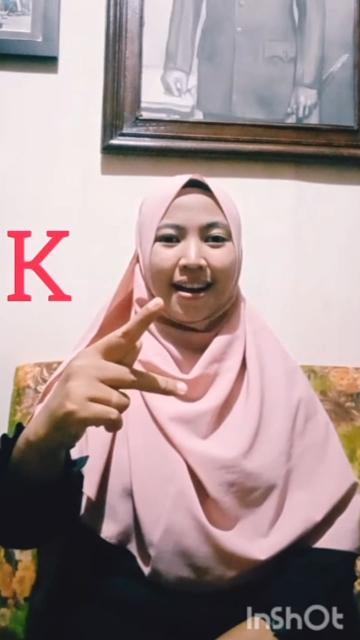K: (55, 298, 192, 442)
